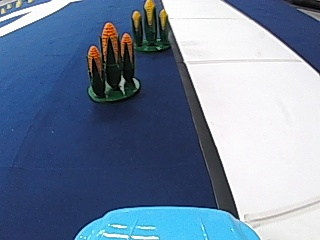corn: (84, 20, 141, 102), (128, 0, 173, 51)
